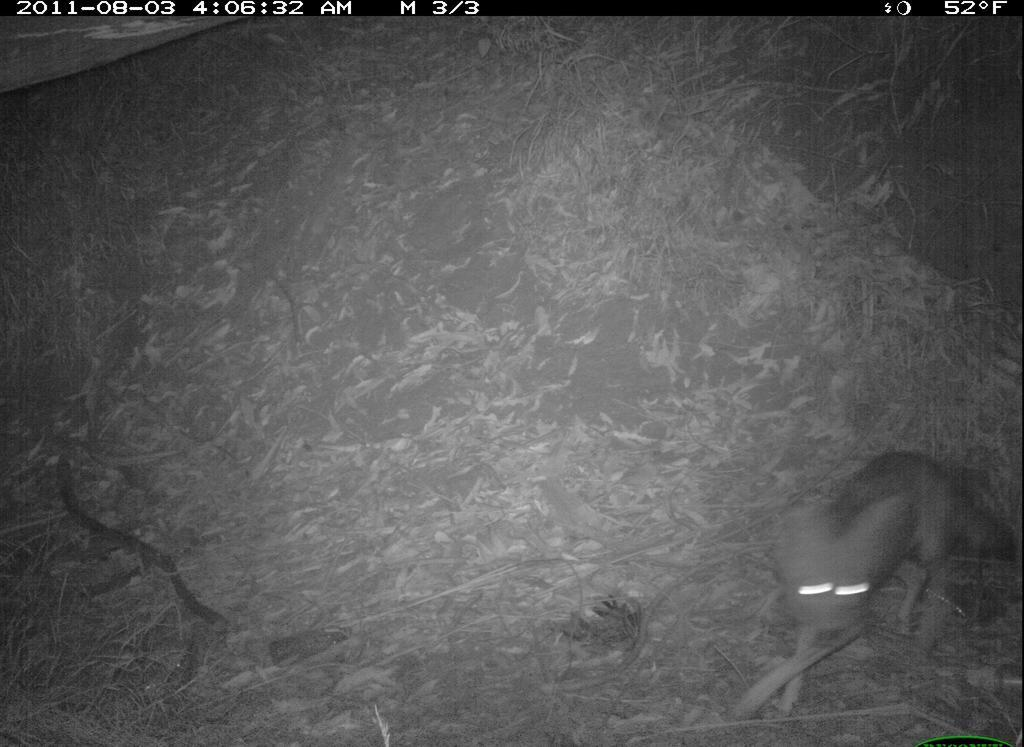coyote: (698, 425, 1018, 743)
